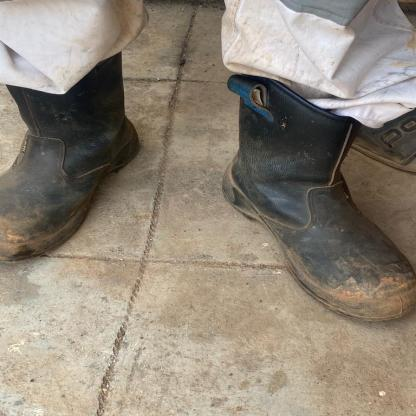bota: (216, 72, 416, 322), (0, 52, 142, 264)
